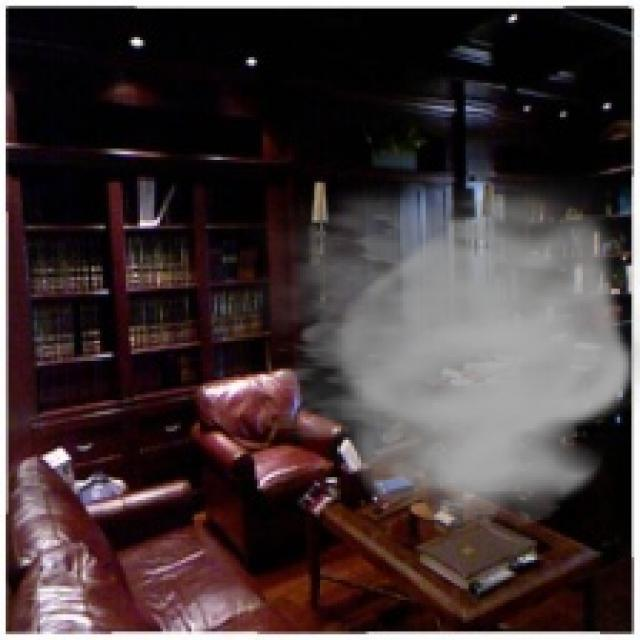Smoke: (225, 166, 638, 534)
